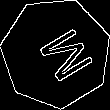M_SW: (23, 21, 90, 86)
